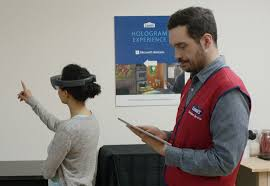hololens: (49, 73, 98, 91)
